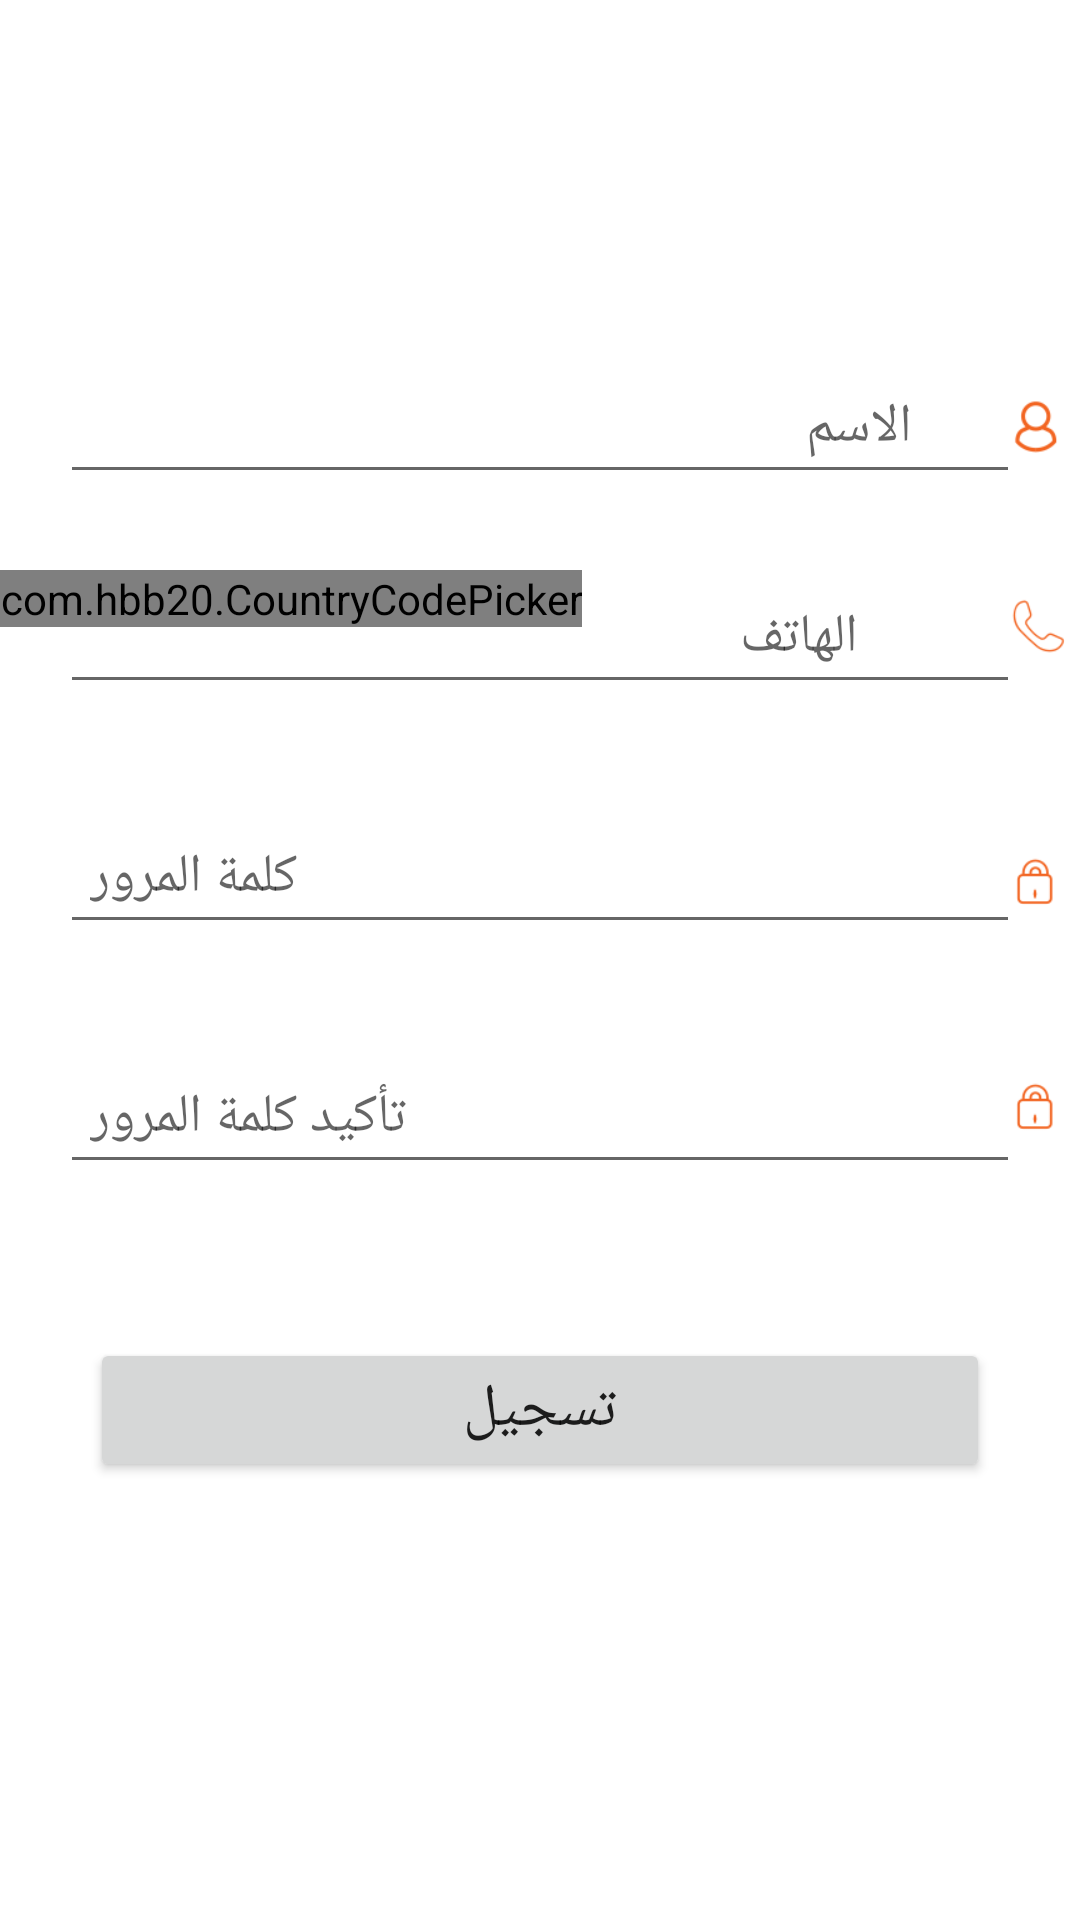

Where icons sit on this 1080 × 1920 app screen, as (x1=x1, y1=y1, x2=x2, y2=y2):
call: (x1=1013, y1=600, x2=1064, y2=653)
louck: (x1=1017, y1=859, x2=1053, y2=904), (x1=1017, y1=1084, x2=1053, y2=1129)
